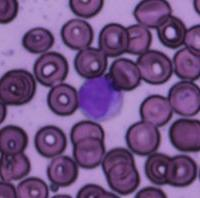L: (77, 74, 124, 122)
